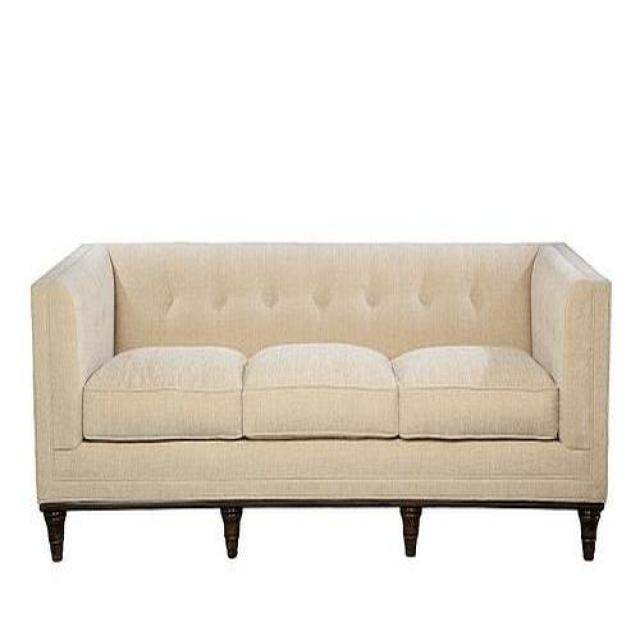sofa: (28, 242, 613, 561)
